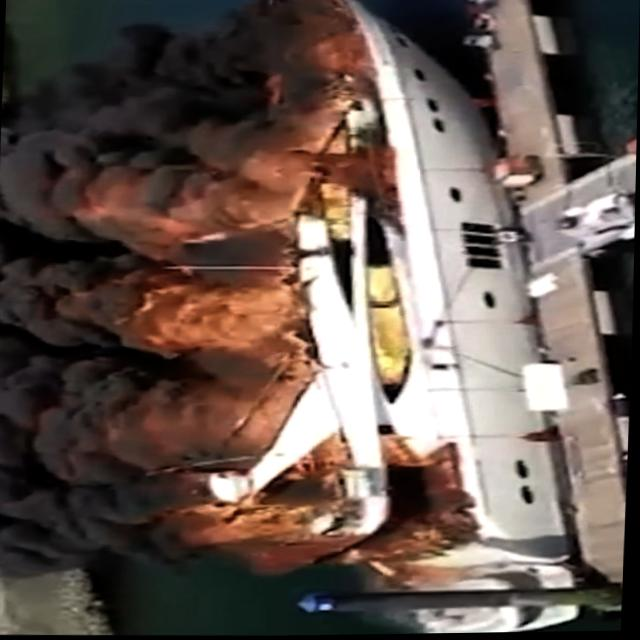fire: (145, 167, 314, 354), (195, 475, 313, 557)
smoke: (0, 95, 129, 504)
